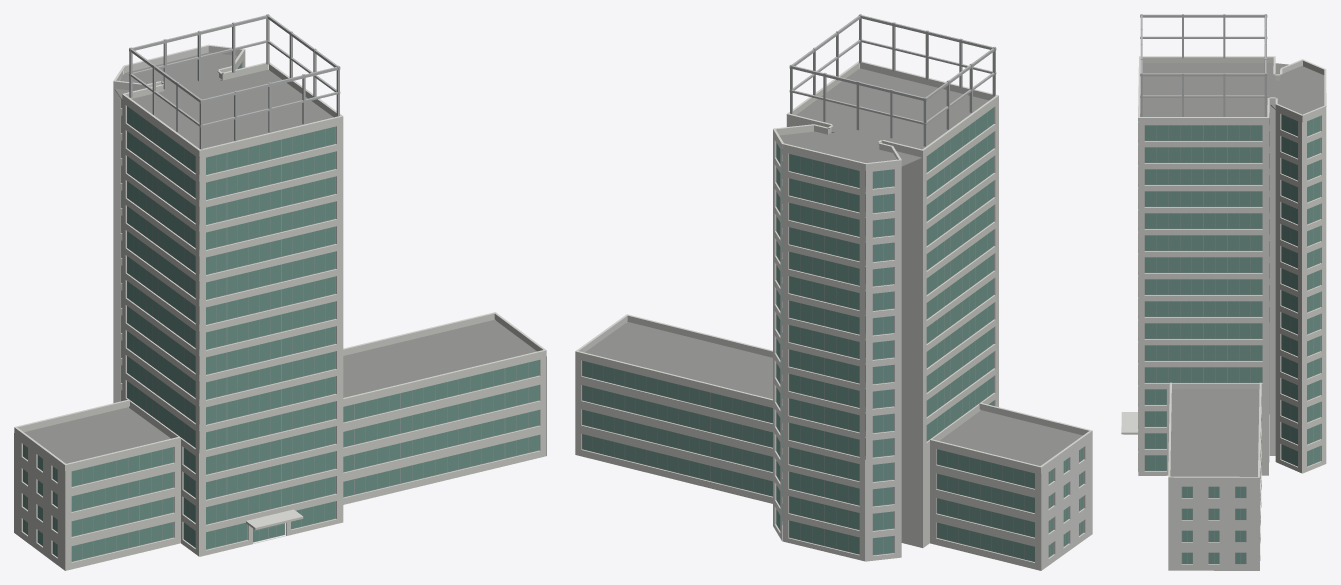
3 views of the same model, side by side, from view 1: azimuth 30°, elevation 25°; view 2: azimuth 150°, elevation 25°; view 3: azimuth 270°, elevation 25° (orthographic). The views are drawn at different scales.
Parts seen in each view (by area): view 1: munheon__glass, munheon__white, munheon__roof, munheon__frame, munheon__steel; view 2: munheon__white, munheon__glass, munheon__roof, munheon__frame, munheon__steel; view 3: munheon__white, munheon__glass, munheon__roof, munheon__frame, munheon__steel.
Part boxes in pixels (x1,y1,x2,y2): munheon__glass: (23,63,539,561); munheon__white: (14,44,546,570); munheon__roof: (24,52,536,463); munheon__frame: (23,99,539,561); munheon__steel: (129,14,340,149); munheon__white: (575,61,1092,570); munheon__glass: (582,107,1083,561); munheon__roof: (585,68,1082,465); munheon__frame: (582,107,1083,561); munheon__steel: (789,14,996,146); munheon__white: (1121,56,1326,570); munheon__glass: (1145,114,1320,563); munheon__roof: (1140,63,1324,476); munheon__frame: (1144,114,1320,564); munheon__steel: (1140,14,1267,116).
Size of the model in its own units: 68.34 by 62 by 28.74.
